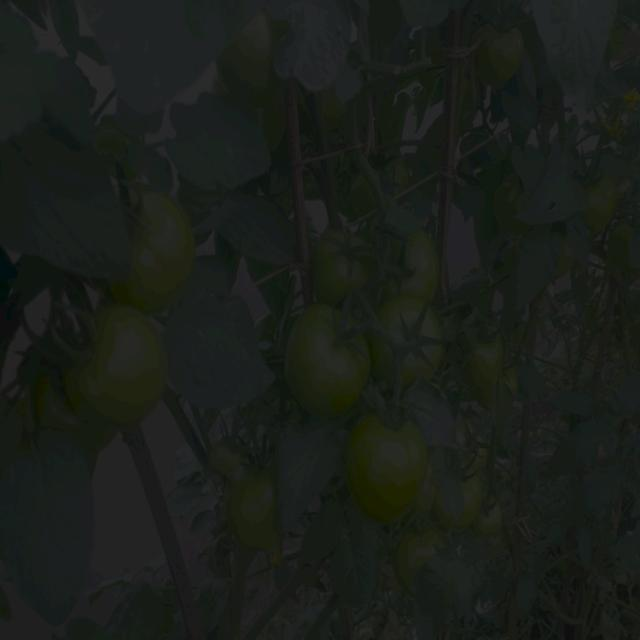tomato: (71, 307, 173, 422), (121, 188, 203, 310), (283, 308, 369, 416), (340, 421, 427, 525), (368, 292, 447, 387), (307, 226, 372, 293), (378, 228, 444, 292), (227, 471, 278, 552), (480, 23, 533, 90), (229, 16, 273, 80), (398, 521, 451, 573), (466, 334, 502, 393), (586, 169, 618, 223), (492, 178, 526, 227), (459, 464, 484, 526), (479, 497, 506, 538), (210, 434, 240, 468), (348, 171, 375, 207)
